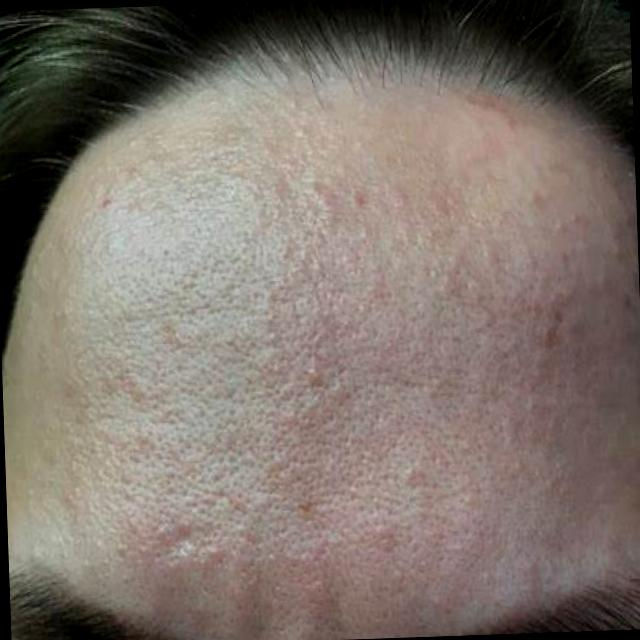fungal: (120, 109, 640, 612)
